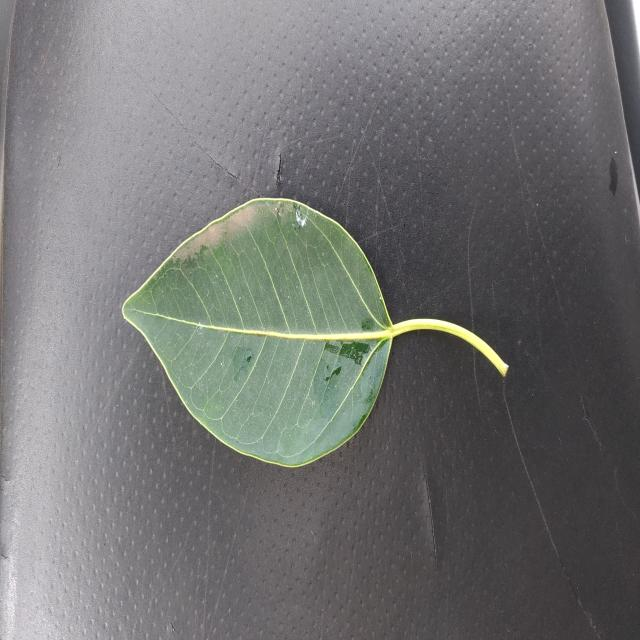camphor: (122, 198, 400, 467)
